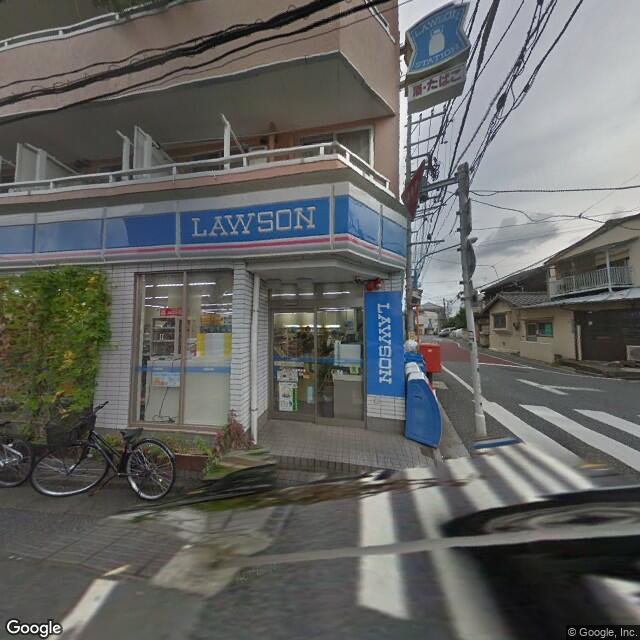lawson: (2, 183, 411, 273), (406, 2, 472, 74), (365, 291, 401, 402)
